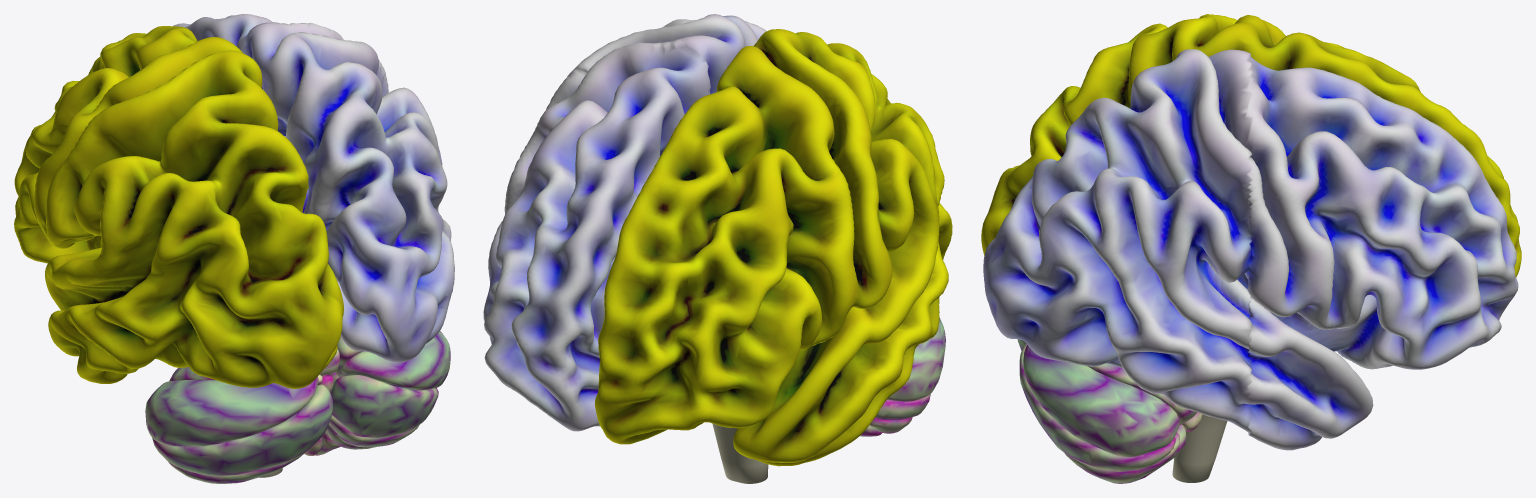
The model's file is noesis-brain-hires.glb.
3 views of the same model, side by side, from view 1: azimuth 30°, elevation 25°; view 2: azimuth 150°, elevation 25°; view 3: azimuth 270°, elevation 25° (orthographic). The views are drawn at different scales.
Parts seen in each view (by area): view 1: Cortex_Left, Cortex_Right, Cerebellum; view 2: Cortex_Left, Cortex_Right, Cerebellum, Brainstem; view 3: Cortex_Right, Cortex_Left, Cerebellum, Brainstem.
Boxes of the visible parts, box(x1,y1,x2,y2) form: Cortex_Left: box(14, 26, 343, 388); Cortex_Right: box(173, 14, 454, 362); Cerebellum: box(145, 331, 450, 483); Cortex_Left: box(595, 29, 952, 466); Cortex_Right: box(483, 14, 766, 431); Cerebellum: box(860, 317, 945, 436); Brainstem: box(712, 423, 768, 483); Cortex_Right: box(983, 49, 1518, 450); Cortex_Left: box(981, 14, 1521, 277); Cerebellum: box(1017, 339, 1202, 483); Brainstem: box(1172, 414, 1227, 482).
Size of the model in its own units: 1.56 by 1.79 by 1.98.
